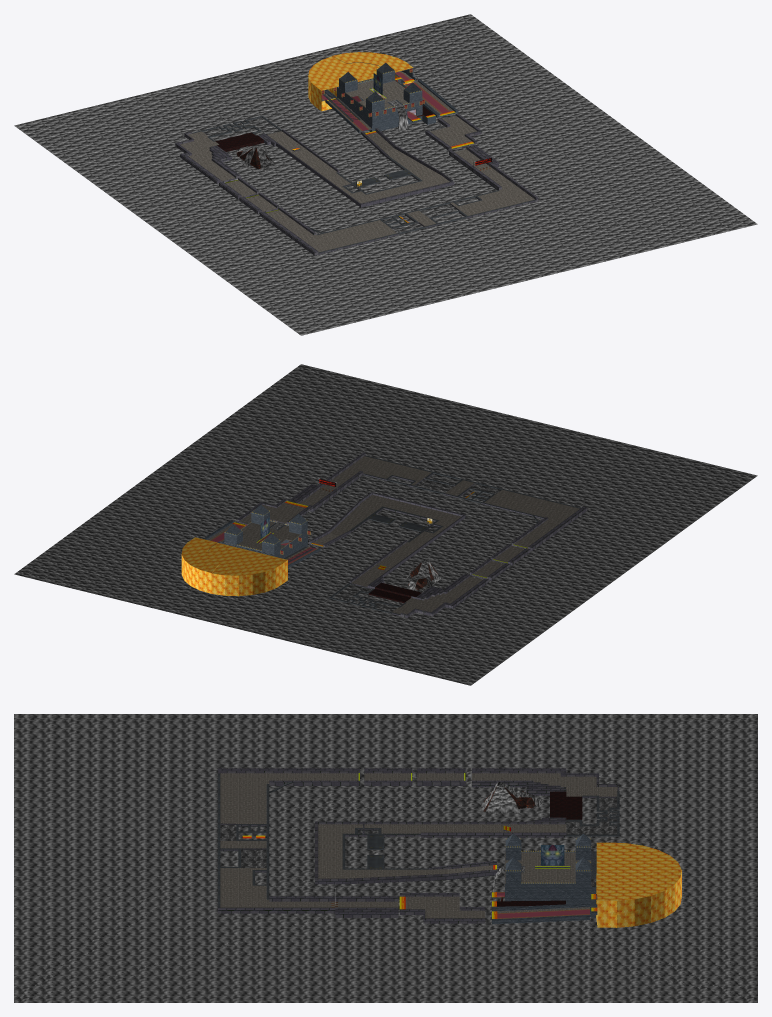
The model's file is 3ds_bll.obj.
The picture shows the model from 3 angles, top to bottom: view 1: azimuth 30°, elevation 25°; view 2: azimuth 150°, elevation 25°; view 3: azimuth 270°, elevation 25°; orthographic projection. The views are drawn at different scales.
Parts seen in each view (by area): view 1: course_model_SKP__Lava, course_model_SKP__Road, course_model_SKP__Wall, course_model_SKP__Wall1, course_model_SKP__BowserCage, course_model_SKP__Danger, course_model_SKP__Material1, course_model_SKP__Road3, course_model_SKP__Bridge; view 2: course_model_SKP__Lava, course_model_SKP__Road, course_model_SKP__Wall, course_model_SKP__BowserCage, course_model_SKP__Danger, course_model_SKP__Wall1, course_model_SKP__Bridge, course_model_SKP__Material1; view 3: course_model_SKP__Lava, course_model_SKP__Road, course_model_SKP__Wall, course_model_SKP__BowserCage, course_model_SKP__Wall1, course_model_SKP__Danger, course_model_SKP__Grate, course_model_SKP__Bridge, course_model_SKP__Material1, course_model_SKP__Road3, course_model_SKP__bowser2.
Boxes of the visible parts, x1=… form: course_model_SKP__Lava: x1=14, y1=14, x2=757, y2=335; course_model_SKP__Road: x1=180, y1=71, x2=534, y2=252; course_model_SKP__Wall: x1=175, y1=113, x2=538, y2=255; course_model_SKP__Wall1: x1=321, y1=56, x2=458, y2=132; course_model_SKP__BowserCage: x1=308, y1=52, x2=413, y2=111; course_model_SKP__Danger: x1=192, y1=73, x2=535, y2=253; course_model_SKP__Material1: x1=236, y1=100, x2=408, y2=168; course_model_SKP__Road3: x1=321, y1=72, x2=450, y2=131; course_model_SKP__Bridge: x1=215, y1=106, x2=433, y2=151; course_model_SKP__Lava: x1=14, y1=364, x2=757, y2=685; course_model_SKP__Road: x1=207, y1=456, x2=579, y2=614; course_model_SKP__Wall: x1=237, y1=452, x2=587, y2=617; course_model_SKP__BowserCage: x1=181, y1=537, x2=287, y2=596; course_model_SKP__Danger: x1=284, y1=455, x2=580, y2=614; course_model_SKP__Wall1: x1=203, y1=504, x2=320, y2=568; course_model_SKP__Bridge: x1=368, y1=582, x2=421, y2=603; course_model_SKP__Material1: x1=270, y1=522, x2=440, y2=590; course_model_SKP__Lava: x1=14, y1=714, x2=757, y2=1002; course_model_SKP__Road: x1=220, y1=773, x2=617, y2=918; course_model_SKP__Wall: x1=217, y1=768, x2=618, y2=923; course_model_SKP__BowserCage: x1=596, y1=842, x2=681, y2=927; course_model_SKP__Wall1: x1=492, y1=833, x2=597, y2=924; course_model_SKP__Danger: x1=217, y1=773, x2=619, y2=907; course_model_SKP__Grate: x1=220, y1=797, x2=617, y2=897; course_model_SKP__Bridge: x1=497, y1=791, x2=582, y2=906; course_model_SKP__Material1: x1=482, y1=781, x2=542, y2=899; course_model_SKP__Road3: x1=497, y1=909, x2=589, y2=918; course_model_SKP__bowser2: x1=541, y1=845, x2=564, y2=865.
Size of the model in its own units: 102327 by 9168 by 111419.
Materials: 23 (22 with a texture image).
